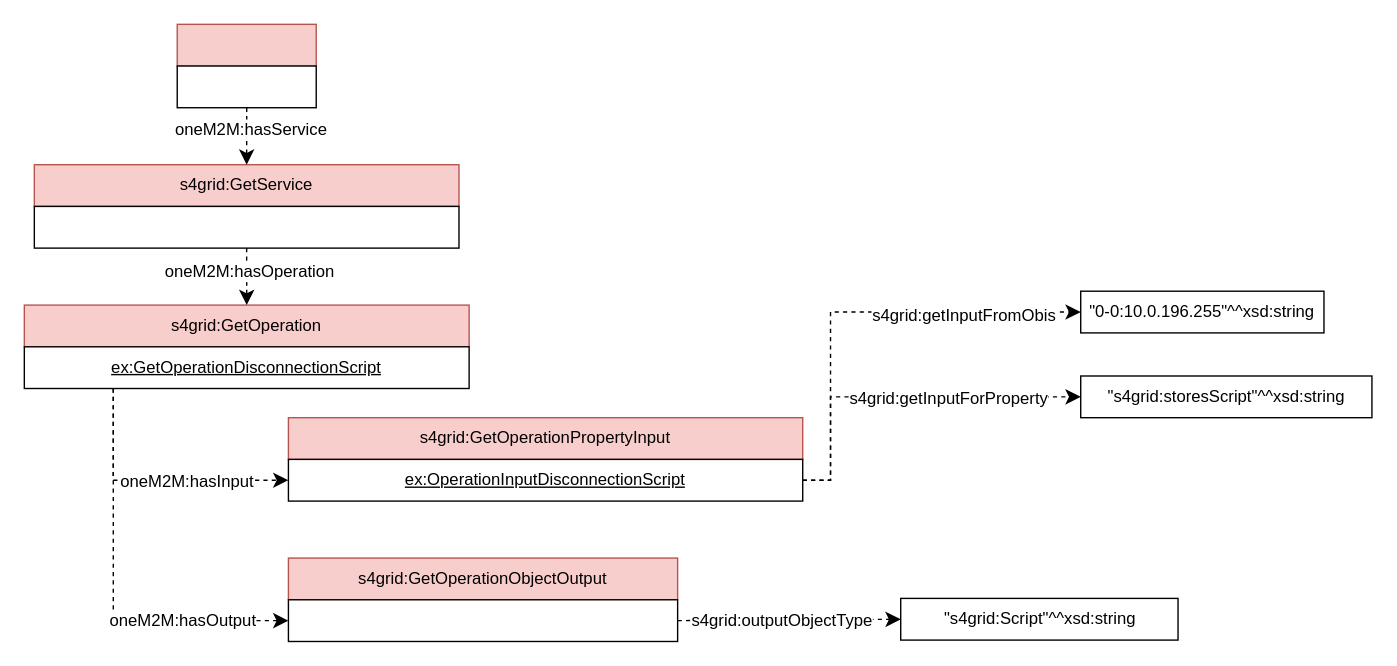
Image size: 1397x666. Some labels were removed from this diagram. Each missing label, with the centre of its shape:
"ex:GetServiceDisconnectionScript" belongs at point (246, 226).
"ex:Meter1234" belongs at point (246, 86).
"ex:OutputDisconnectionScript" belongs at point (482, 619).
"s4grid:Meter" belongs at point (246, 44).
